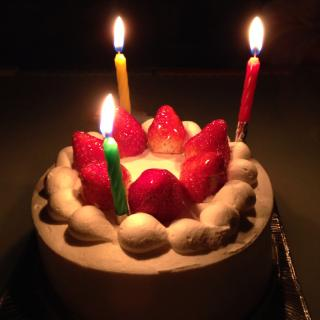Cake: (32, 104, 274, 320)
Strawberry: (124, 170, 185, 222), (180, 150, 227, 203), (80, 162, 134, 208), (144, 105, 188, 157), (112, 106, 148, 158), (182, 121, 229, 159), (72, 132, 103, 175)
